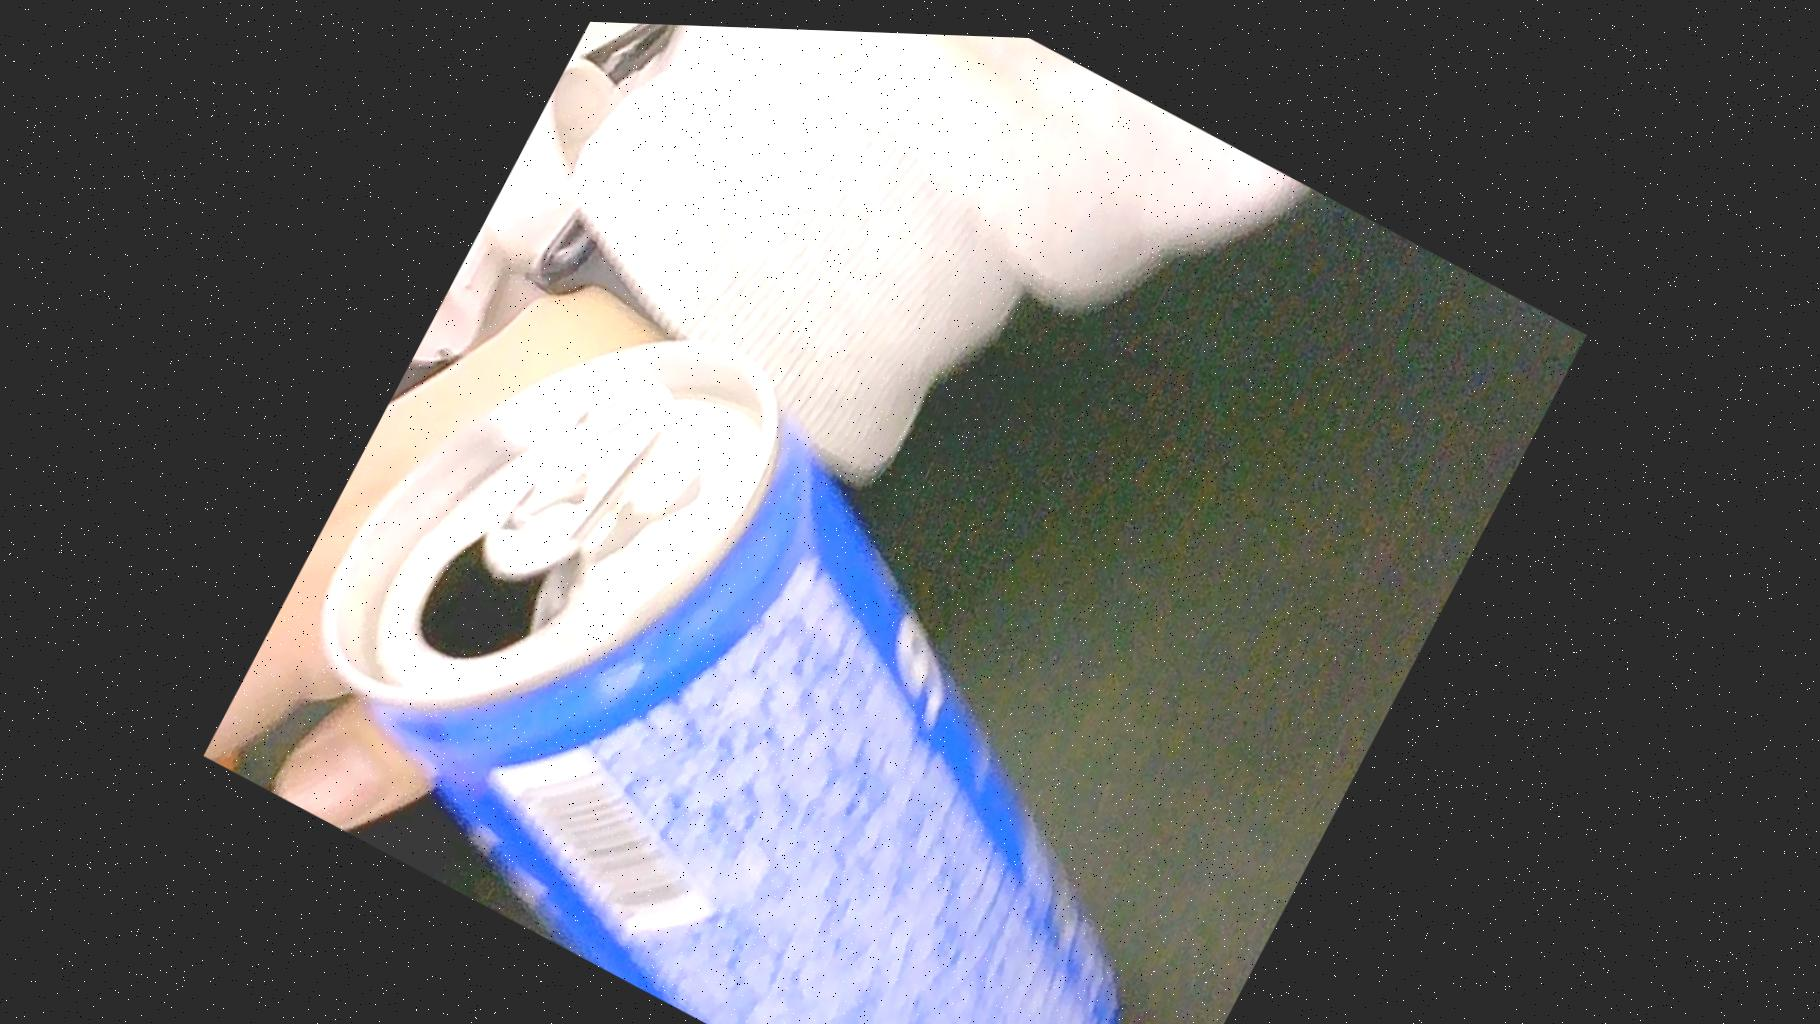letsbe: (226, 216, 1343, 1024)
